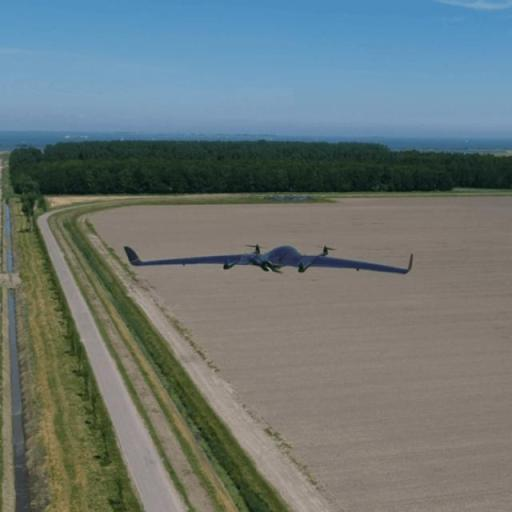uav: (120, 199, 422, 325)
